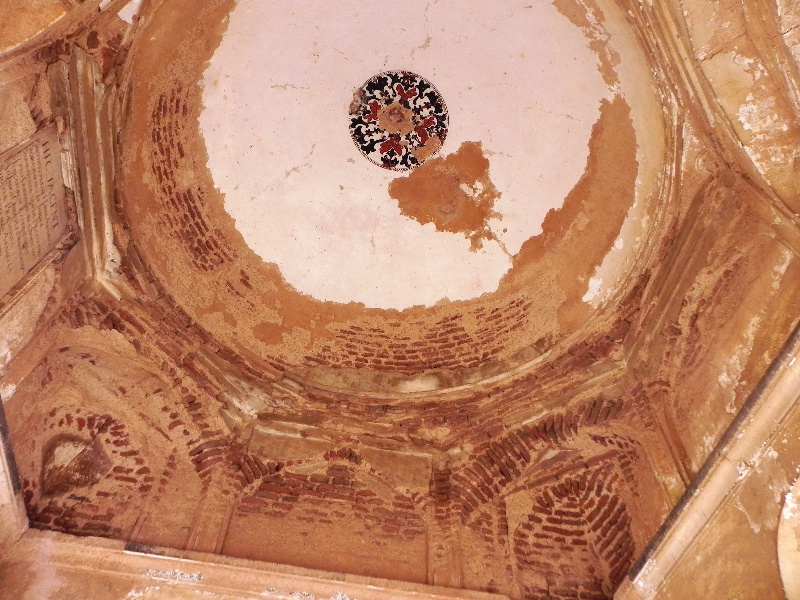Exposed Bricks: (244, 382, 637, 582), (151, 90, 235, 279), (313, 308, 533, 375)
Spalling: (394, 160, 499, 252)
